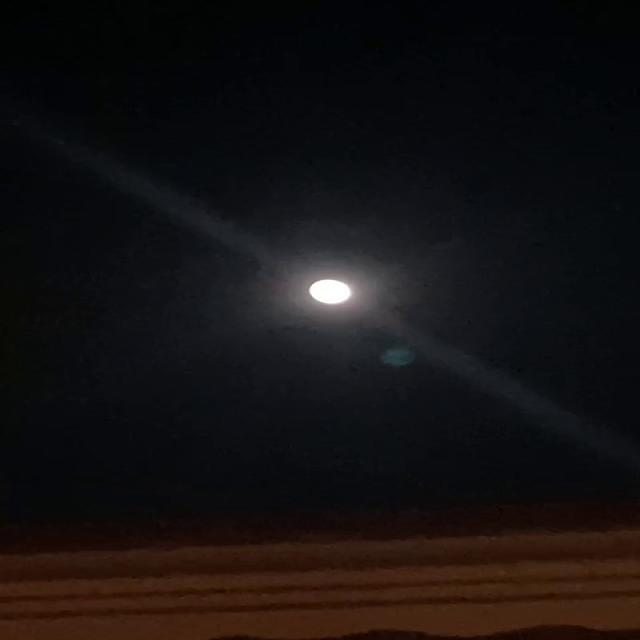moon: (298, 276, 354, 309)
